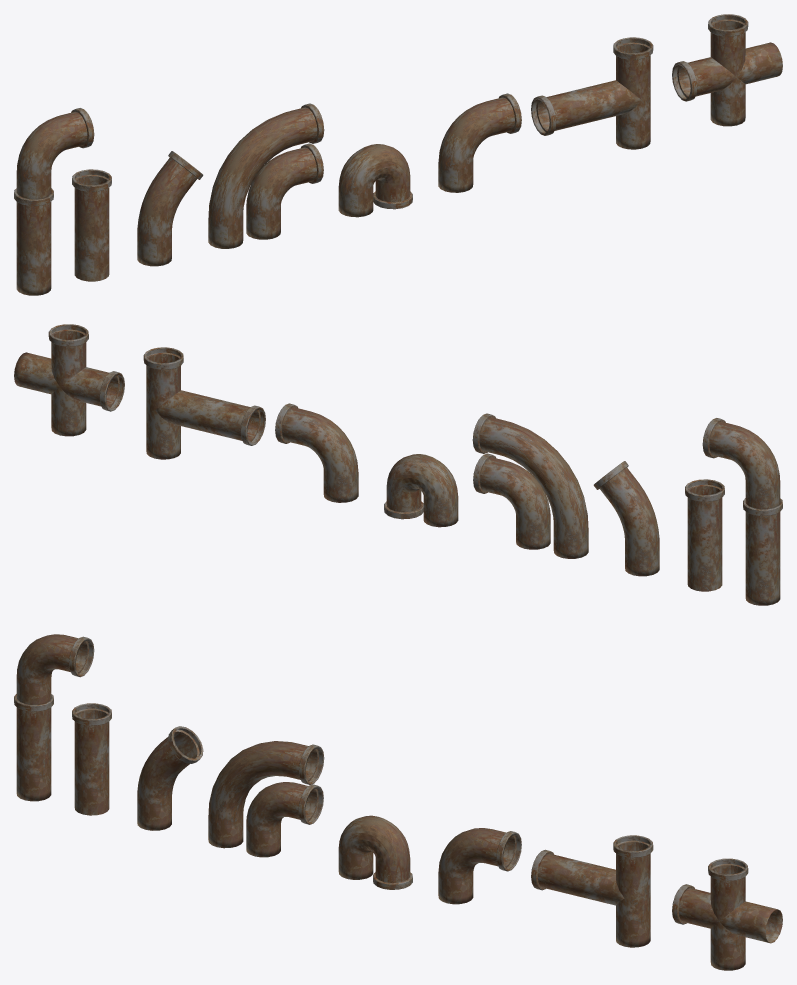
File: PipeCorners.fbx
The picture shows the model from 3 angles, top to bottom: view 1: azimuth 30°, elevation 25°; view 2: azimuth 150°, elevation 25°; view 3: azimuth 330°, elevation 25°; orthographic projection.
Visible parts, largest first — view 1: pCylinder41, pCylinder40, pCylinder39, pCylinder18, pCylinder20, pCylinder21, pCylinder17, pCylinder15, pCylinder19; view 2: pCylinder41, pCylinder40, pCylinder39, pCylinder18, pCylinder20, pCylinder21, pCylinder17, pCylinder15, pCylinder19; view 3: pCylinder41, pCylinder40, pCylinder39, pCylinder18, pCylinder20, pCylinder21, pCylinder15, pCylinder19, pCylinder17.
Part boxes in pixels (box(x1,y1,x2,y2)): pCylinder41: box(14, 108, 94, 295); pCylinder40: box(531, 37, 653, 149); pCylinder39: box(672, 14, 782, 126); pCylinder18: box(208, 103, 324, 248); pCylinder20: box(338, 144, 412, 217); pCylinder21: box(438, 93, 521, 192); pCylinder17: box(246, 143, 323, 239); pCylinder15: box(72, 169, 111, 281); pCylinder19: box(137, 151, 203, 266); pCylinder41: box(702, 418, 782, 605); pCylinder40: box(143, 347, 265, 459); pCylinder39: box(14, 324, 124, 436); pCylinder18: box(472, 413, 588, 558); pCylinder20: box(384, 454, 458, 527); pCylinder21: box(275, 403, 358, 502); pCylinder17: box(473, 453, 550, 549); pCylinder15: box(685, 479, 724, 591); pCylinder19: box(593, 461, 659, 576); pCylinder41: box(14, 634, 94, 801); pCylinder40: box(531, 835, 653, 947); pCylinder39: box(672, 858, 782, 970); pCylinder18: box(208, 741, 324, 848); pCylinder20: box(338, 815, 412, 889); pCylinder21: box(438, 828, 521, 904); pCylinder15: box(72, 703, 111, 815); pCylinder19: box(137, 726, 203, 830); pCylinder17: box(246, 782, 323, 857).
Size of the model in its own units: 49.93 by 10.52 by 2.31.
